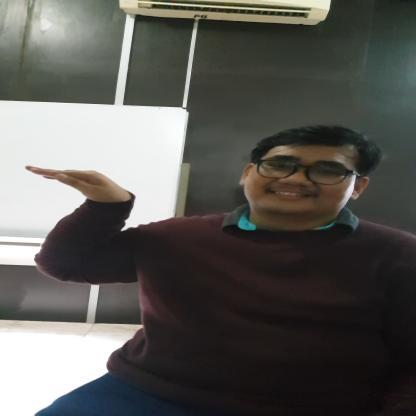Z: (20, 164, 142, 286)
